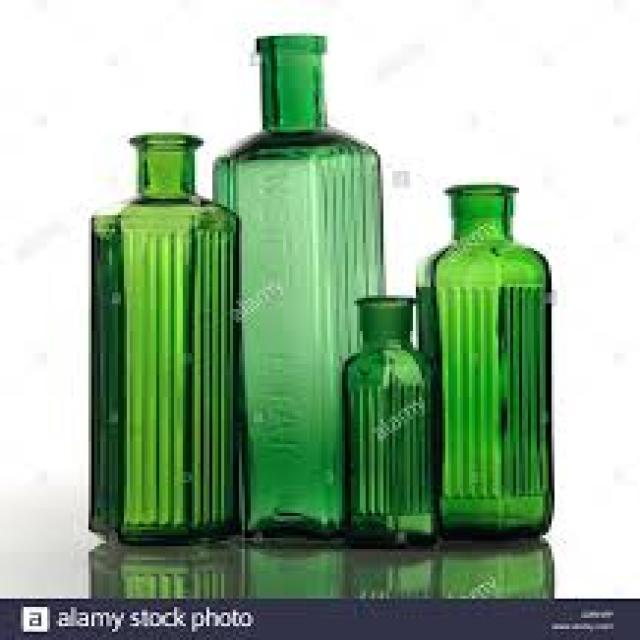glass: (213, 30, 384, 538), (85, 130, 239, 544), (413, 182, 551, 535), (337, 293, 440, 544)
